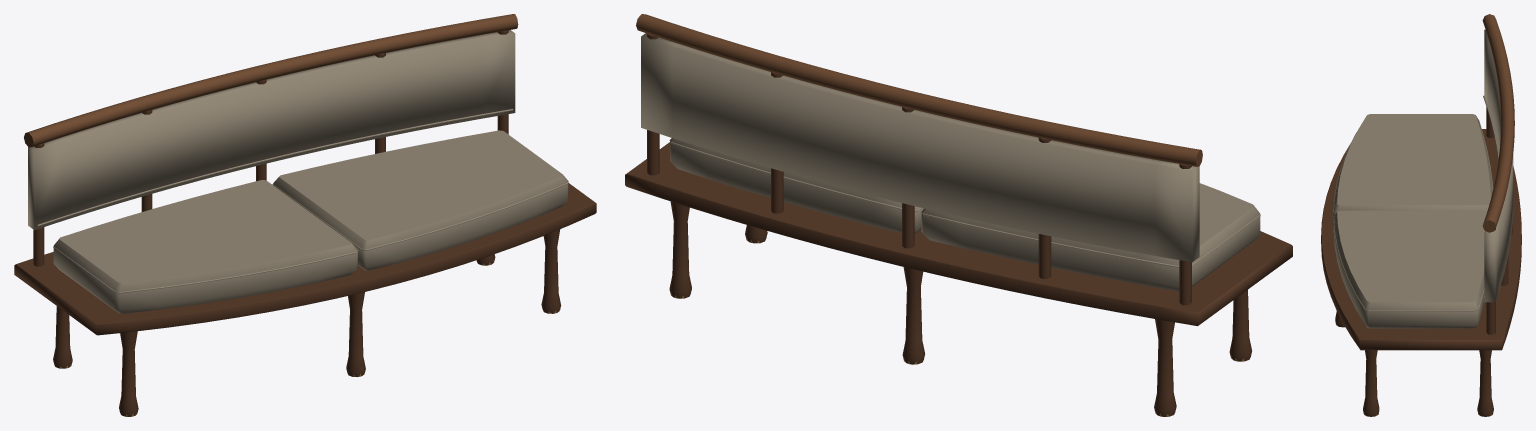
Rendered from rpg-mansion-curved-window-sofa-01.glb.
3 renders of one model, left to right at view 1: azimuth 30°, elevation 25°; view 2: azimuth 150°, elevation 25°; view 3: azimuth 270°, elevation 25°, orthographic. The views are drawn at different scales.
Parts seen in each view (by area): view 1: rpg-mansion-curved-window-sofa-01; view 2: rpg-mansion-curved-window-sofa-01; view 3: rpg-mansion-curved-window-sofa-01.
Part boxes in pixels (left/top/right/bottom): rpg-mansion-curved-window-sofa-01: left=14, top=14, right=596, bottom=416; rpg-mansion-curved-window-sofa-01: left=625, top=14, right=1292, bottom=416; rpg-mansion-curved-window-sofa-01: left=1321, top=14, right=1521, bottom=416.
Size of the model in its own units: 1.8 by 0.82 by 0.72.
